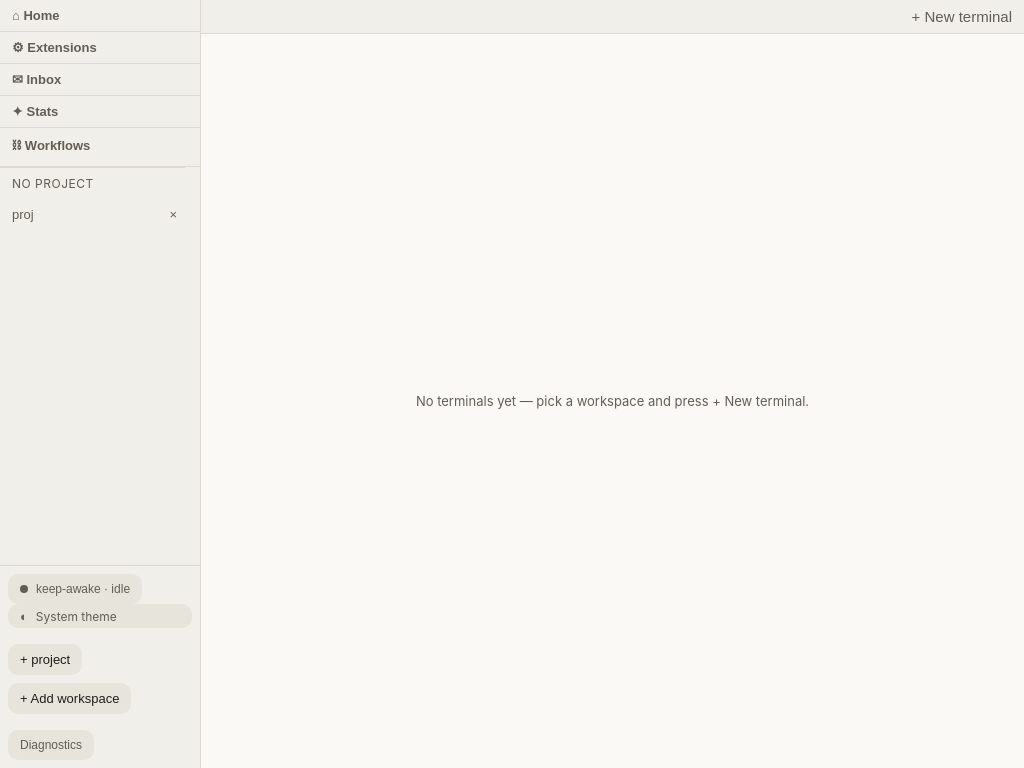
T12: workspace view — stat chips + command strip + root-aware cwd › clicking a stat chip toggles an inline detail list; clicking it again closes it
Click the button "proj" at x=81, y=214, box [0,199,161,230]
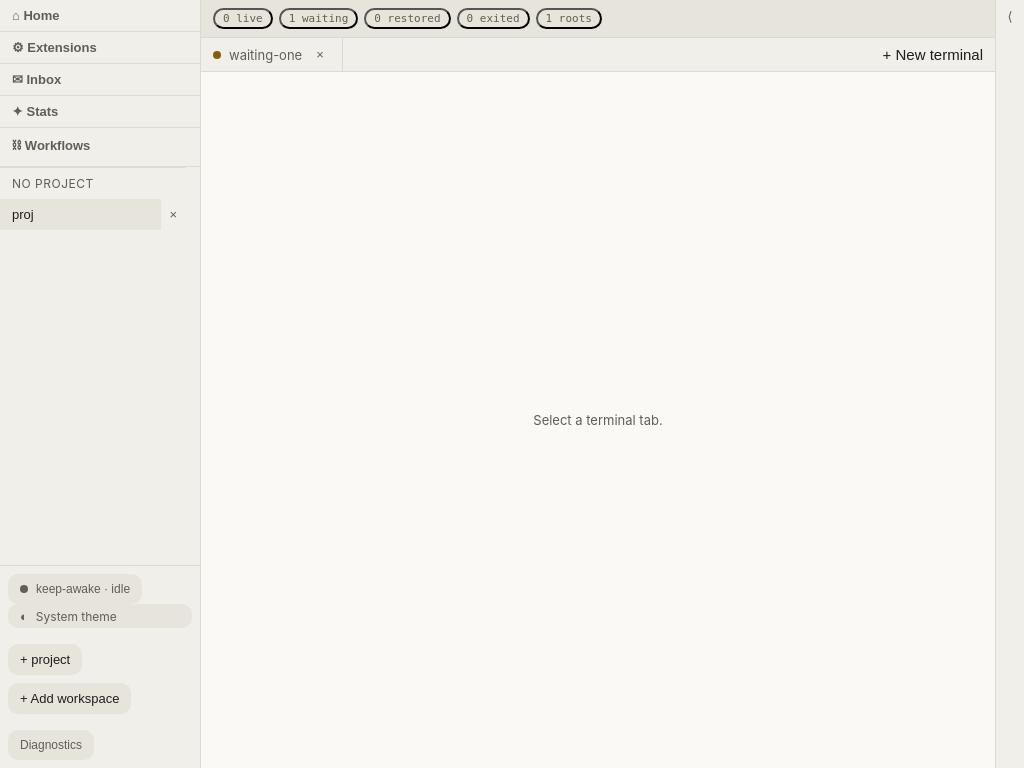
Click the button with test id "workspace-stat-waiting" at x=319, y=18, box [279,8,358,29]
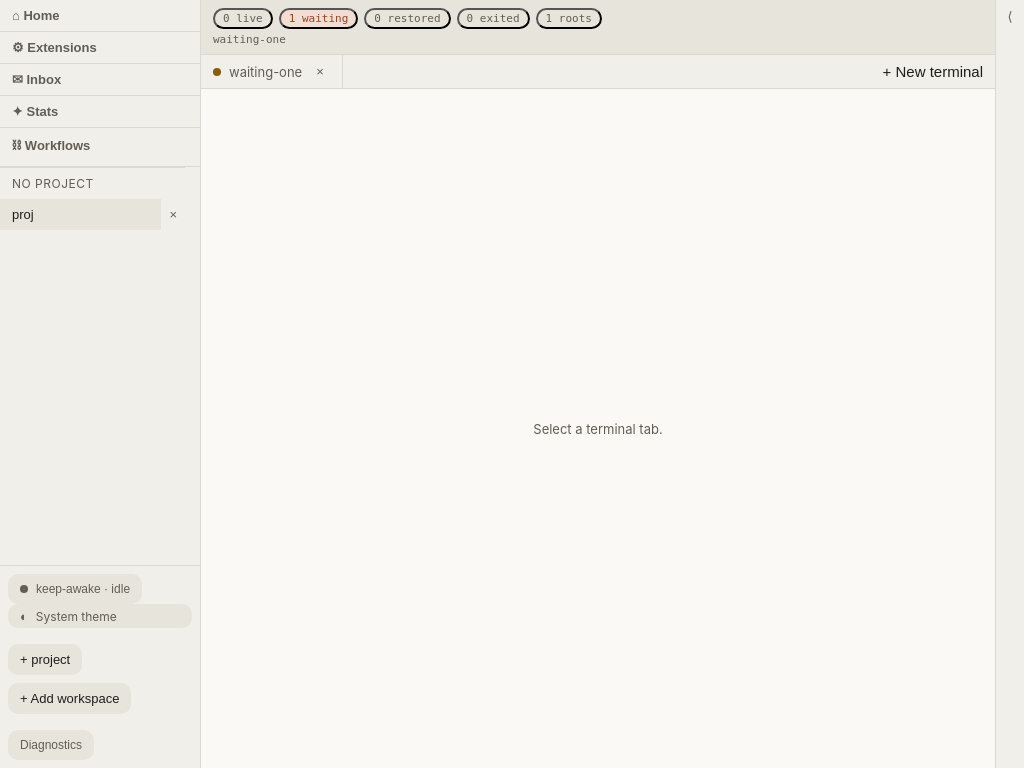
Now the text with test id "workspace-stat-detail" reads "waiting-one", box [213,33,286,46]
Click the button with test id "workspace-stat-waiting" at x=319, y=18, box [279,8,358,29]
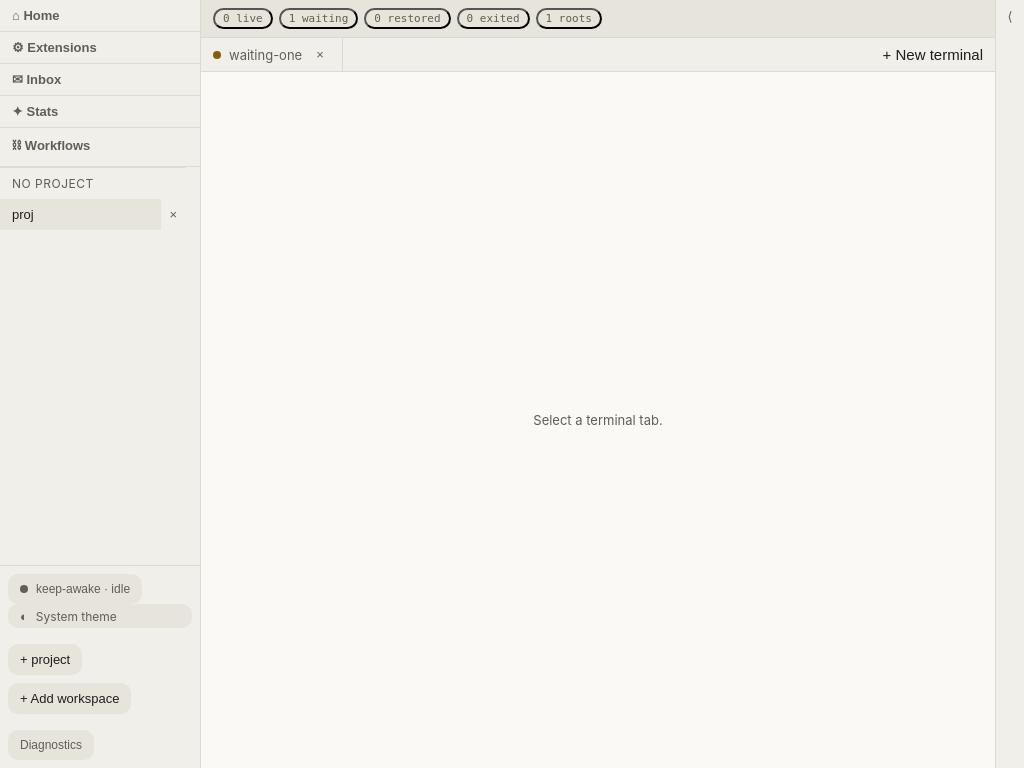
Now the text with test id "workspace-stat-detail" is gone
